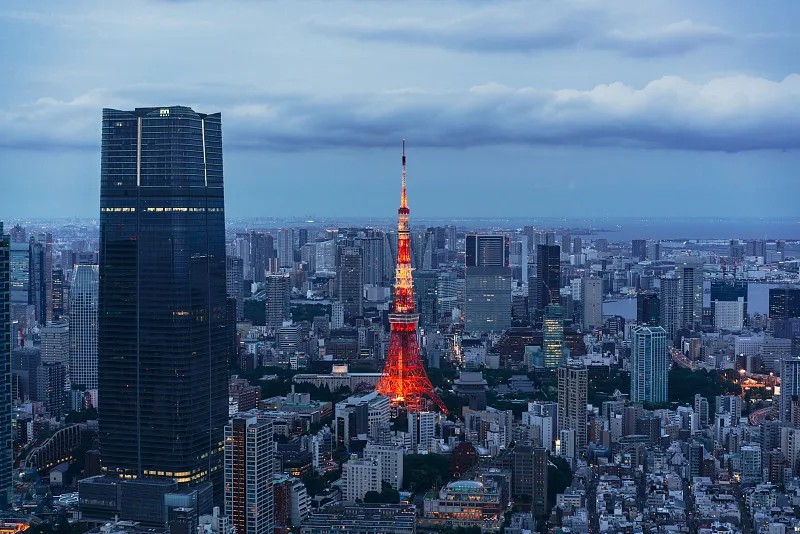Tokyo: (372, 135, 448, 416)
